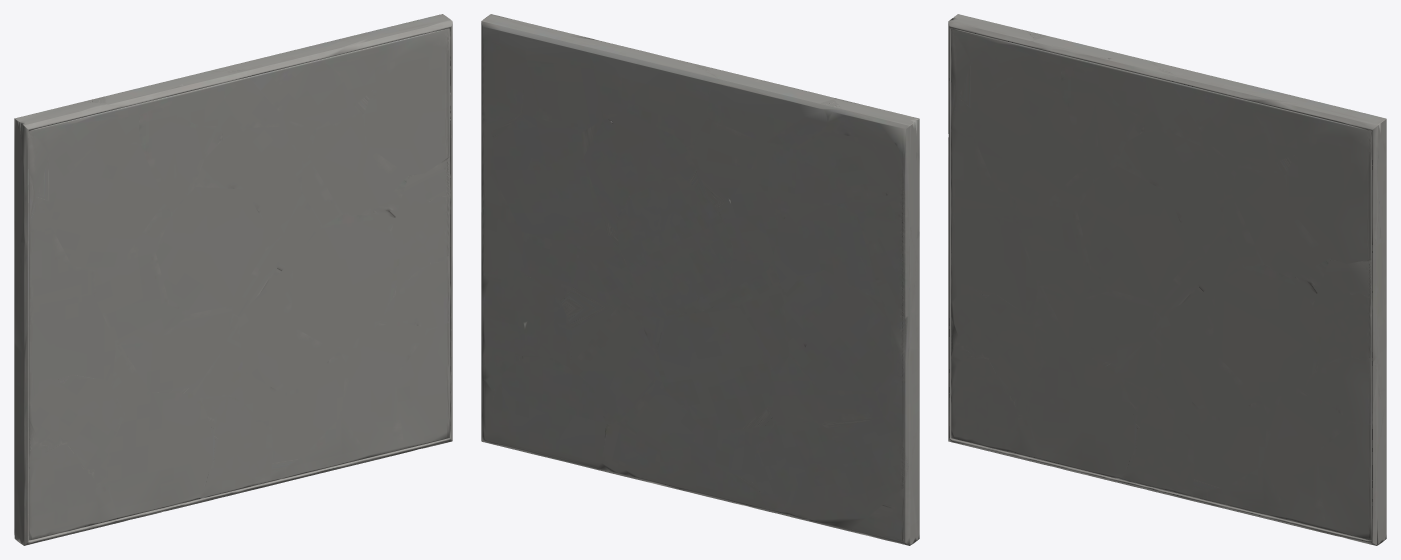
The model's file is model-24-wall-panel.glb.
3 views of the same model, side by side, from view 1: azimuth 30°, elevation 25°; view 2: azimuth 150°, elevation 25°; view 3: azimuth 330°, elevation 25° (orthographic).
Visible parts, largest first — view 1: node_0; view 2: node_0; view 3: node_0.
Part boxes in pixels (left/top/right/bottom): node_0: left=14, top=14, right=452, bottom=545; node_0: left=481, top=14, right=919, bottom=545; node_0: left=948, top=14, right=1386, bottom=545.
Bounding box in the file's own units: 0.8753 × 0.8208 × 0.0463.
Materials: 1 (1 with a texture image).
